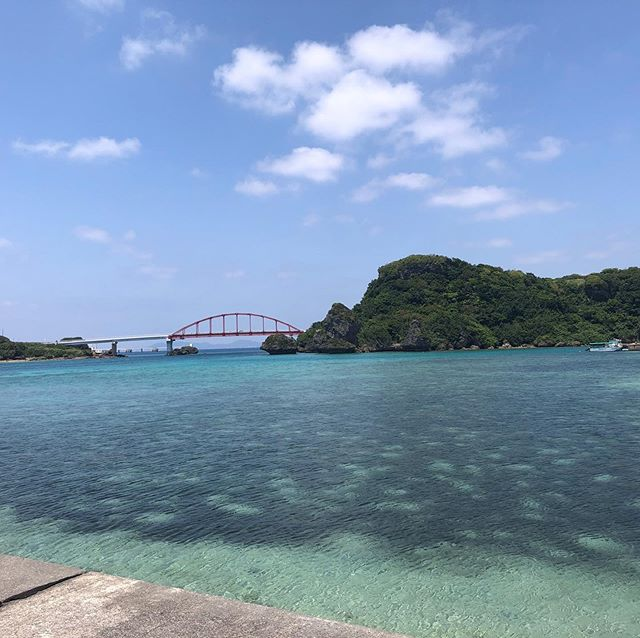bridge: (118, 293, 311, 362)
sea: (1, 333, 640, 638)
sky: (1, 1, 626, 259)
vegetation: (309, 286, 640, 345)
